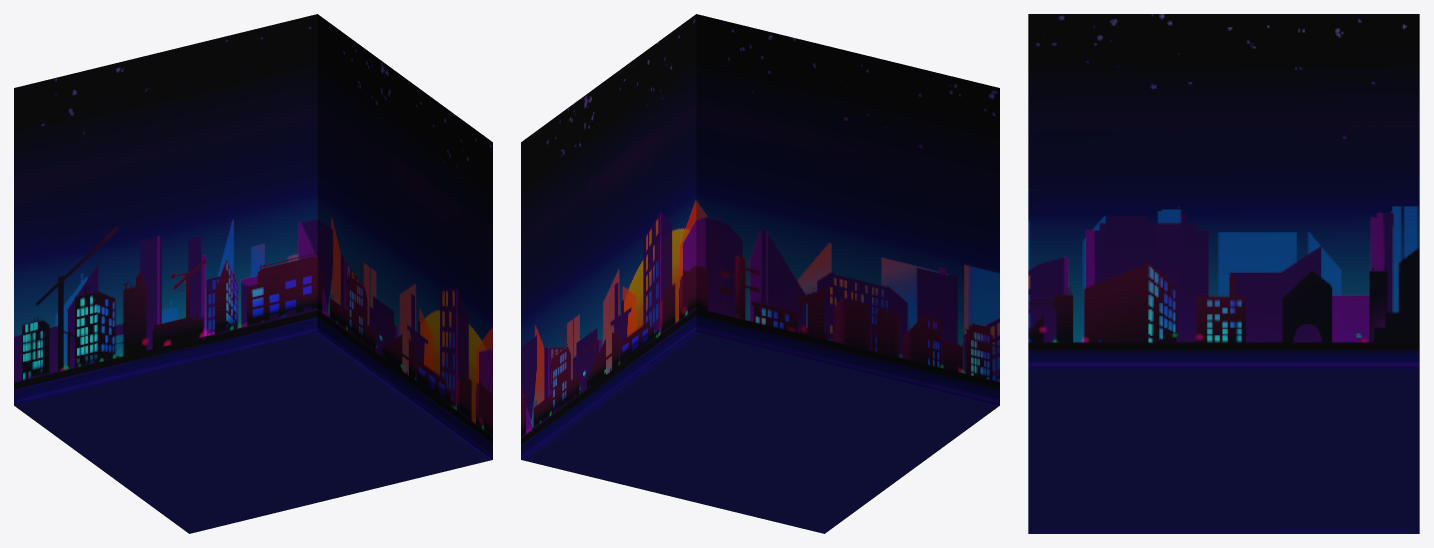
Rendered from urban_skybox.gltf.
The picture shows the model from 3 angles, left to right: view 1: azimuth 30°, elevation 25°; view 2: azimuth 150°, elevation 25°; view 3: azimuth 270°, elevation 25°; orthographic projection. The views are drawn at different scales.
Parts seen in each view (by area): view 1: egypt_skybox_glb; view 2: egypt_skybox_glb; view 3: egypt_skybox_glb.
Boxes of the visible parts, x1,y1,x2,y2 form: egypt_skybox_glb: [14, 14, 492, 533]; egypt_skybox_glb: [521, 14, 999, 533]; egypt_skybox_glb: [1028, 14, 1419, 533].
Size of what is drawn, in the model's own units: 48 by 48 by 48.
1 material, 1 textured.
